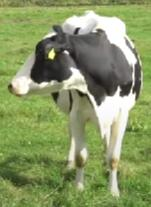cow: (7, 11, 143, 197)
